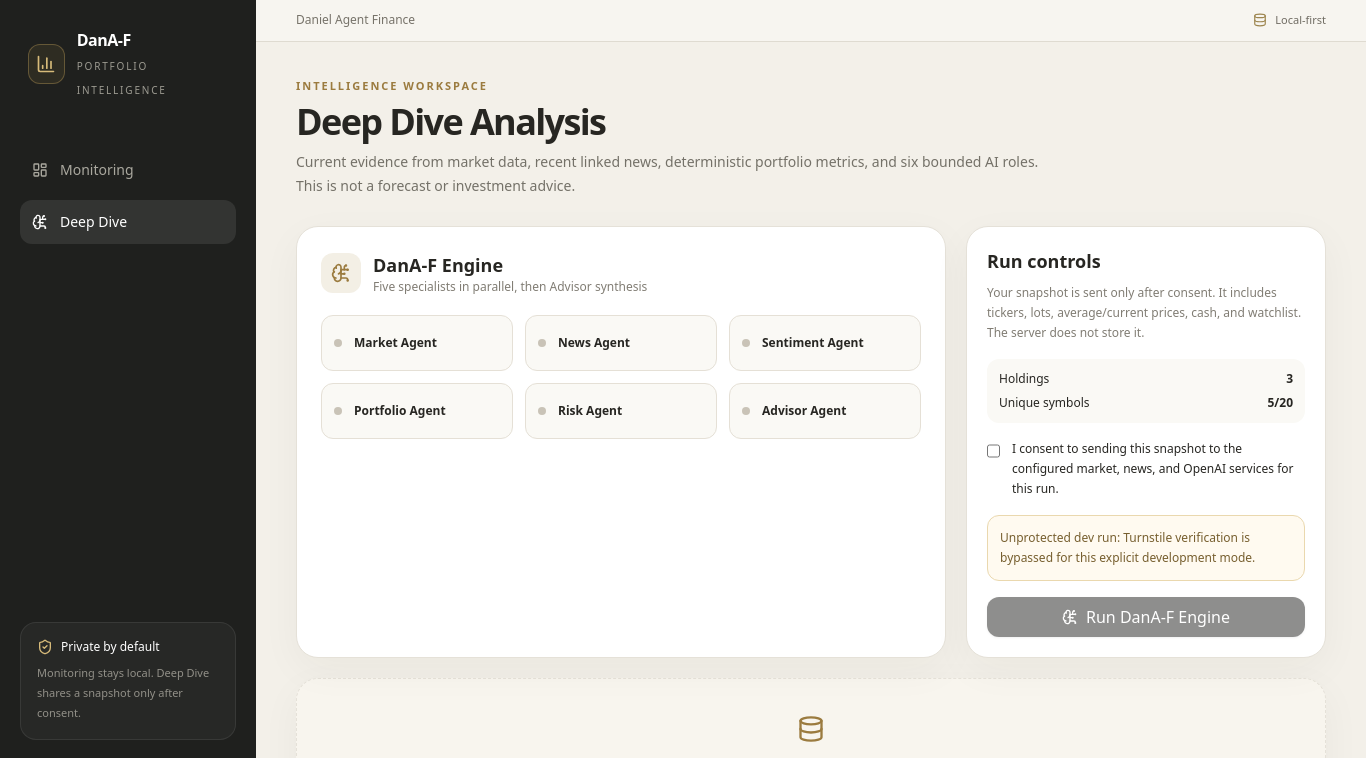
Scenario: Deep Dive workspace › enables a clearly labelled unprotected run after consent in development
The image size is (1366, 758).
Expected: the text "Unprotected dev run" is shown, 1000,529 -> 1255,566
Expected: the button "Run DanA-F Engine" is disabled, 987,597 -> 1305,637
Click the checkbox. click: (994, 451)
box: 987,443 -> 1000,459
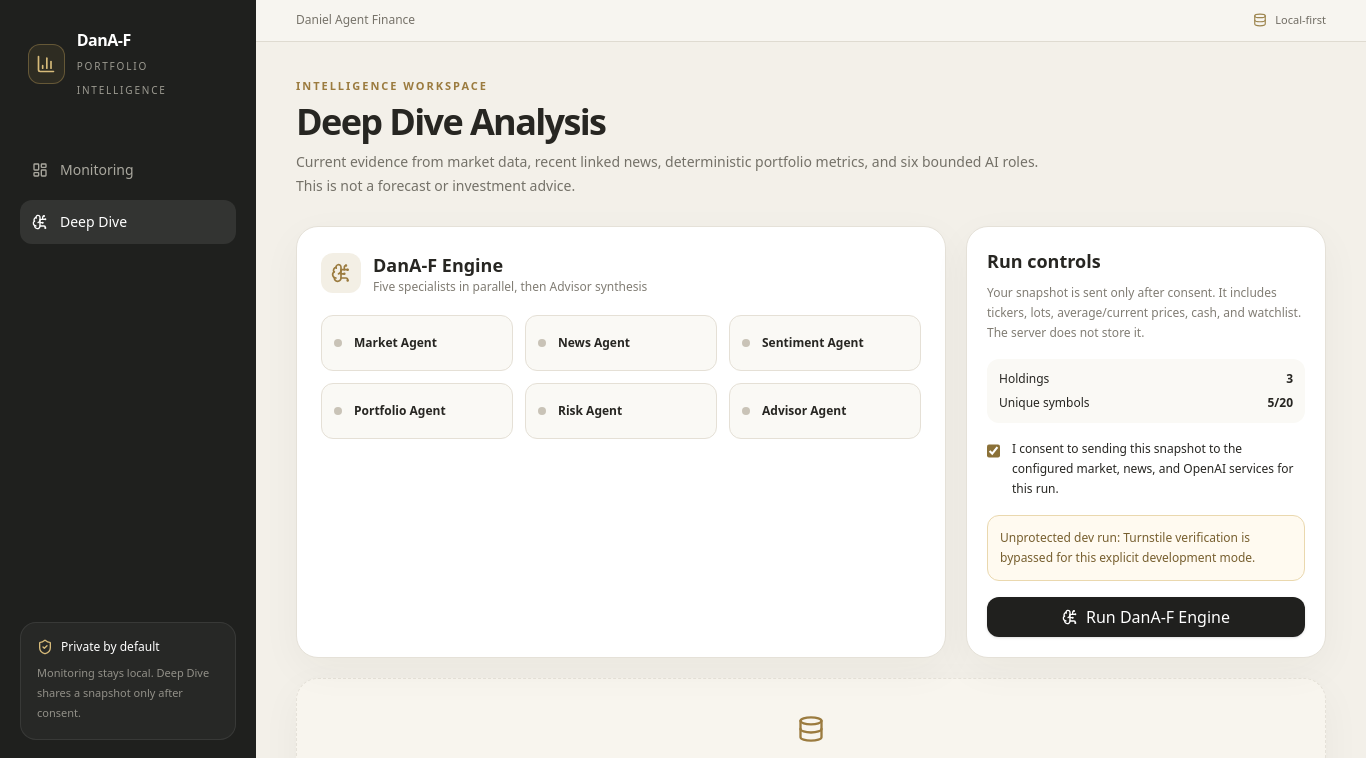
Expected: the button "Run DanA-F Engine" is enabled, 987,597 -> 1305,637
